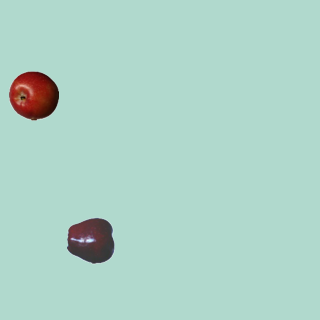Apple Braeburn: (8, 70, 58, 120)
Apple Red Delicious: (66, 215, 116, 265)
